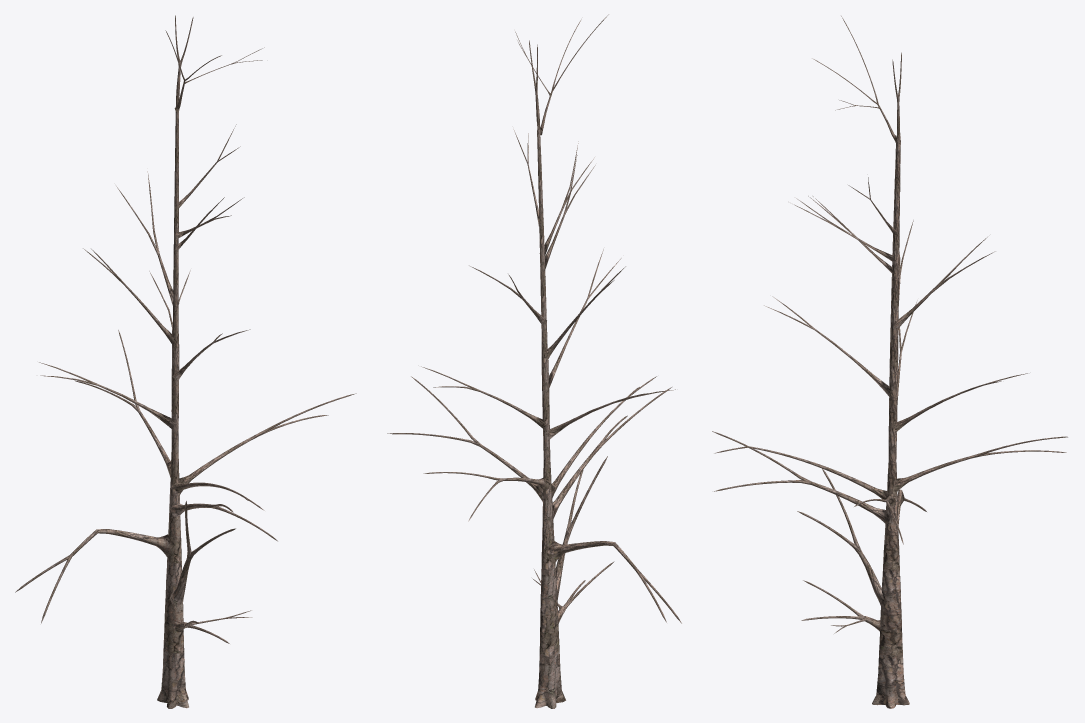
Rendered from ActualBadTree.glb.
3 renders of one model, left to right at view 1: azimuth 30°, elevation 25°; view 2: azimuth 150°, elevation 25°; view 3: azimuth 270°, elevation 25°, orthographic. The views are drawn at different scales.
Visible parts, largest first — view 1: bottom_trunk, top_trunk, polySurface7, polySurface2, polySurface13, polySurface1, polySurface8; view 2: bottom_trunk, top_trunk, polySurface7, polySurface2, polySurface18, polySurface13, polySurface19, polySurface1, polySurface3; view 3: bottom_trunk, top_trunk, polySurface18, polySurface13, polySurface1, polySurface19.
Boxes of the visible parts, x1,y1,x2,y2 form: bottom_trunk: (157, 381, 188, 708); top_trunk: (171, 105, 179, 383); polySurface7: (15, 529, 175, 623); polySurface2: (179, 393, 356, 494); polySurface13: (170, 501, 235, 606); polySurface1: (74, 330, 170, 477); polySurface8: (39, 362, 175, 428); bottom_trunk: (535, 394, 565, 708); top_trunk: (537, 123, 549, 395); polySurface7: (546, 541, 681, 623); polySurface2: (387, 376, 543, 501); polySurface18: (552, 387, 671, 519); polySurface13: (556, 456, 607, 601); polySurface19: (551, 376, 656, 497); polySurface1: (423, 472, 550, 521); polySurface3: (421, 366, 547, 429); bottom_trunk: (872, 398, 909, 708); top_trunk: (889, 132, 900, 399); polySurface18: (712, 431, 889, 524); polySurface13: (797, 468, 886, 607); polySurface1: (893, 436, 1067, 492); polySurface19: (712, 431, 888, 499).
Size of the model in its own units: 3.13 by 6.88 by 3.34.
1 material, 1 textured.
